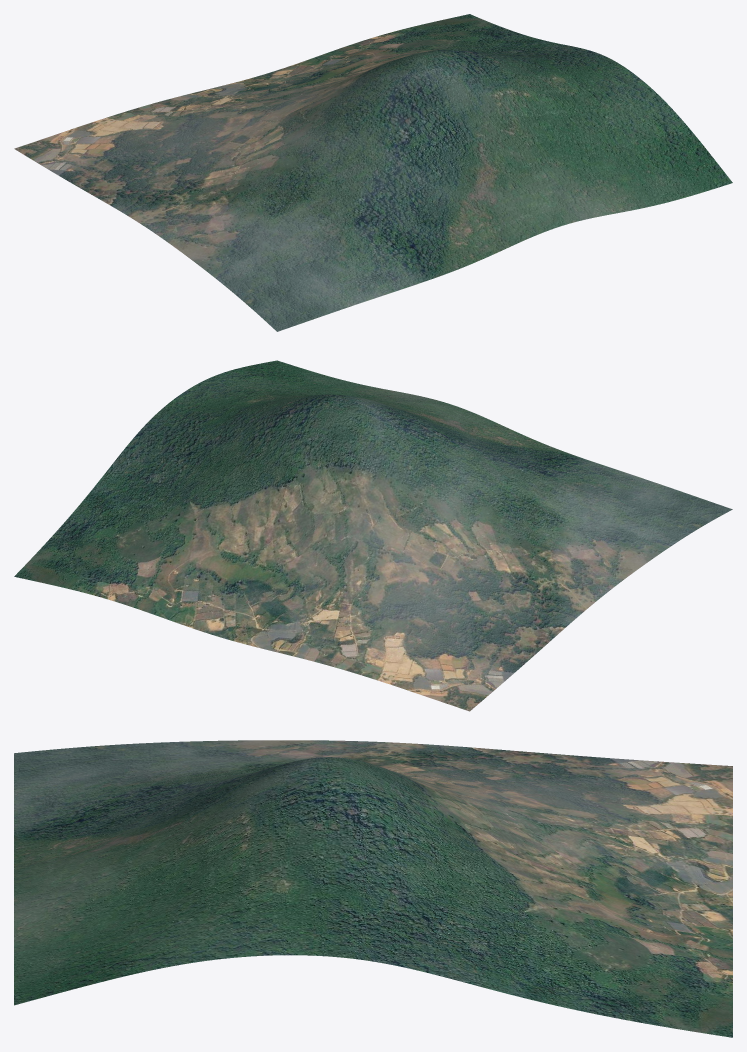
Rendered from terrain_real_T_W01_N06.glb.
3 views of the same model, one above another, from view 1: azimuth 30°, elevation 25°; view 2: azimuth 150°, elevation 25°; view 3: azimuth 270°, elevation 25° (orthographic). The views are drawn at different scales.
Visible parts, largest first — view 1: Terrain_Real_DEM_T_W01_N06; view 2: Terrain_Real_DEM_T_W01_N06; view 3: Terrain_Real_DEM_T_W01_N06.
Boxes of the visible parts, x1,y1,x2,y2 form: Terrain_Real_DEM_T_W01_N06: [14, 14, 732, 331]; Terrain_Real_DEM_T_W01_N06: [14, 360, 732, 711]; Terrain_Real_DEM_T_W01_N06: [14, 740, 732, 1037].
Bounding box in the file's own units: 2000 × 546 × 2000.
Materials: 1 (1 with a texture image).
